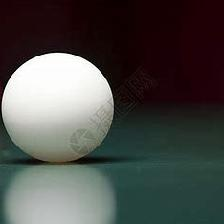WhiteBall: (1, 52, 113, 162)
